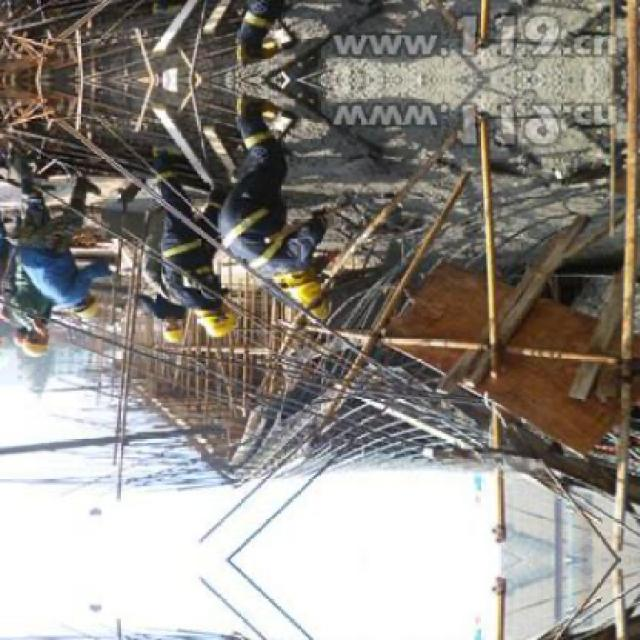con casco: (283, 257, 335, 322), (183, 301, 244, 347), (8, 330, 72, 359), (74, 292, 115, 332), (152, 322, 200, 347)
